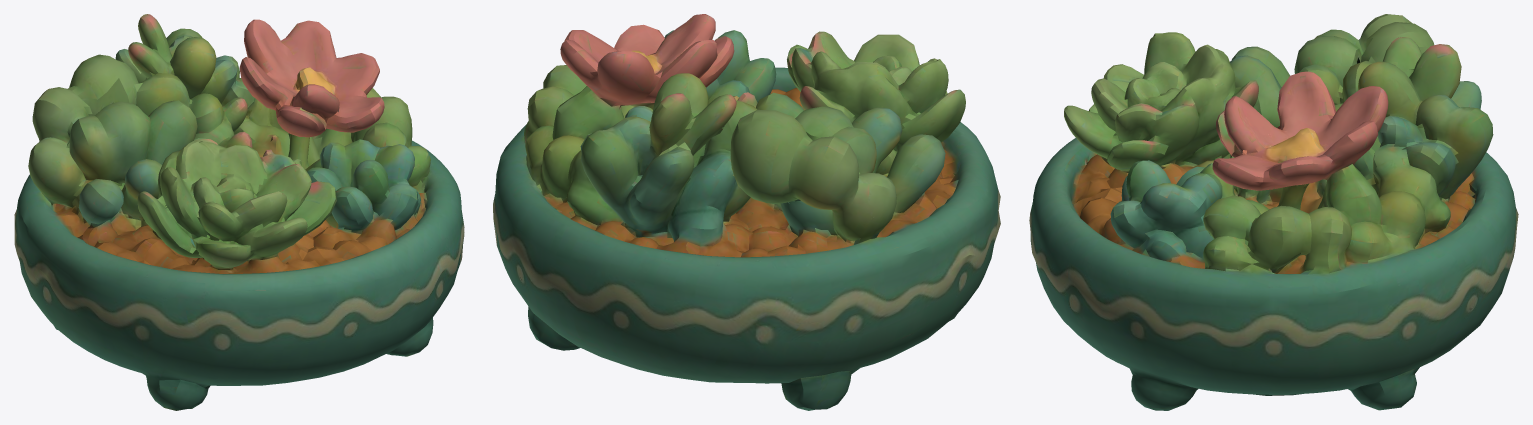
The model's file is Meshy_AI_model.glb.
The picture shows the model from 3 angles, left to right: view 1: azimuth 30°, elevation 25°; view 2: azimuth 150°, elevation 25°; view 3: azimuth 270°, elevation 25°; orthographic projection. The views are drawn at different scales.
Visible parts, largest first — view 1: Mesh0; view 2: Mesh0; view 3: Mesh0.
Boxes of the visible parts, x1=… form: Mesh0: x1=14, y1=14, x2=464, y2=410; Mesh0: x1=493, y1=14, x2=1000, y2=410; Mesh0: x1=1029, y1=14, x2=1518, y2=410.
Size of the model in its own units: 1.88 by 1.24 by 1.88.
1 material, 1 textured.
